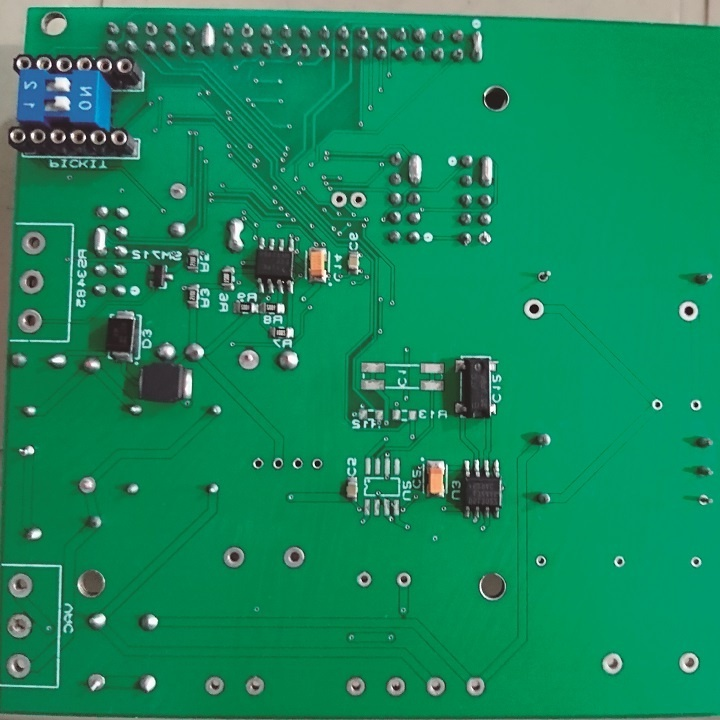F: (6, 570, 34, 600), (4, 612, 33, 640), (5, 650, 31, 679), (19, 230, 49, 255), (17, 306, 42, 335), (601, 650, 626, 679), (19, 269, 46, 295), (238, 346, 262, 375), (283, 543, 307, 571), (221, 544, 246, 569), (519, 298, 547, 320), (344, 675, 368, 700), (677, 649, 702, 673), (678, 300, 701, 325), (76, 474, 100, 497), (84, 670, 107, 694), (244, 674, 267, 698), (204, 675, 225, 698), (386, 676, 407, 698), (467, 676, 487, 698), (167, 181, 190, 200), (330, 188, 350, 209), (395, 571, 416, 591), (426, 678, 446, 698), (477, 228, 496, 248), (349, 188, 367, 209), (355, 569, 373, 587), (316, 41, 332, 60), (698, 492, 714, 510), (241, 20, 256, 39), (309, 455, 324, 474), (279, 41, 293, 59), (533, 554, 549, 569), (251, 457, 266, 473), (535, 269, 552, 283), (144, 20, 157, 38), (689, 552, 702, 570), (652, 397, 665, 414), (613, 555, 627, 569), (292, 458, 304, 472), (688, 400, 702, 412), (270, 458, 281, 471)
P: (224, 215, 244, 255), (469, 24, 487, 66), (407, 151, 425, 188), (199, 18, 216, 57), (90, 223, 109, 257), (479, 154, 496, 189)
